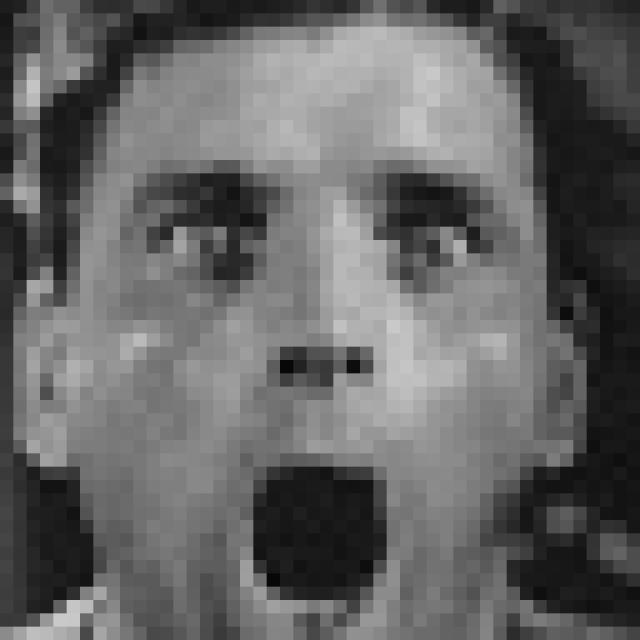surprise: (122, 156, 512, 640)
